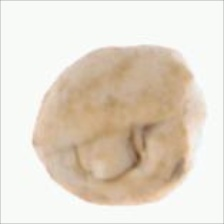L3: (69, 128, 149, 182)
L4: (32, 43, 206, 205)
